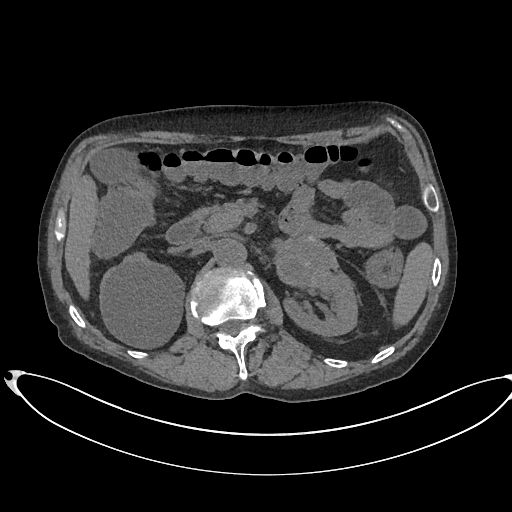Lesion: (268, 232, 342, 287)
